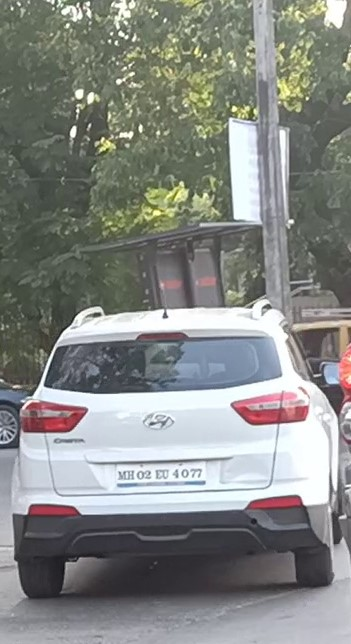MH02EU4077: (116, 461, 207, 485)
